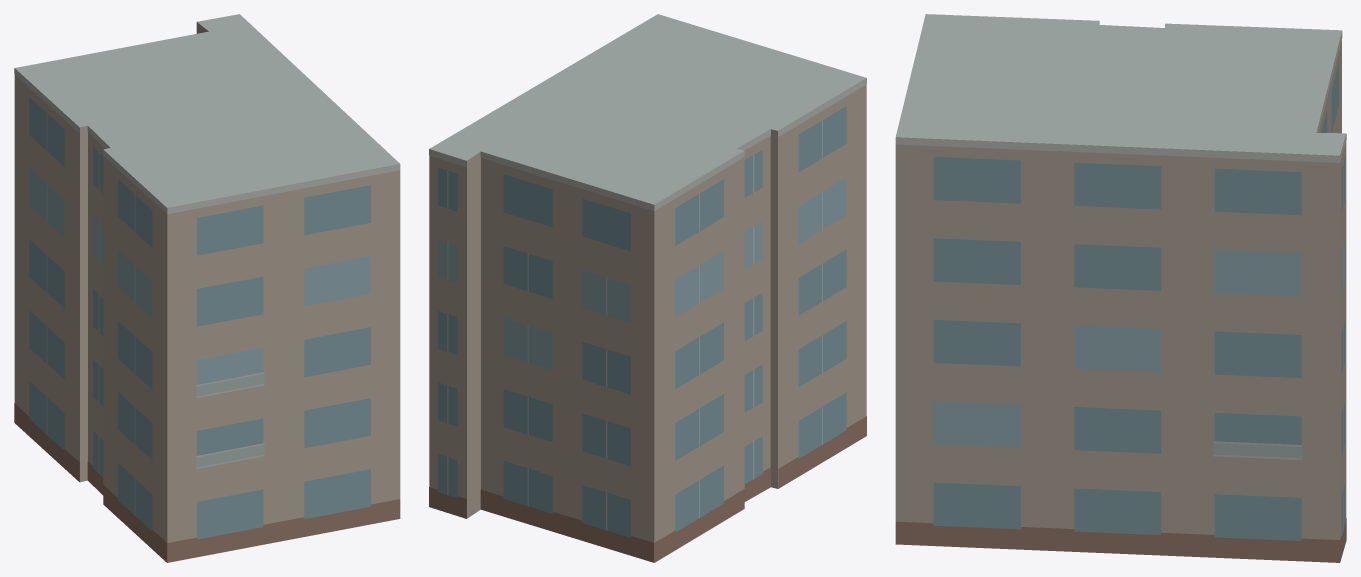
Rendered from survey-upis-32595644.glb.
3 renders of one model, left to right at view 1: azimuth 30°, elevation 25°; view 2: azimuth 150°, elevation 25°; view 3: azimuth 270°, elevation 25°, orthographic. The views are drawn at different scales.
Parts seen in each view (by area): view 1: survey-upis-32595644.tmp; view 2: survey-upis-32595644.tmp; view 3: survey-upis-32595644.tmp.
Part boxes in pixels (x1=…): survey-upis-32595644.tmp: x1=14, y1=14, x2=400, y2=562; survey-upis-32595644.tmp: x1=429, y1=14, x2=866, y2=562; survey-upis-32595644.tmp: x1=895, y1=14, x2=1346, y2=562.
Bounding box in the file's own units: 10.2 × 13.65 × 13.71.
